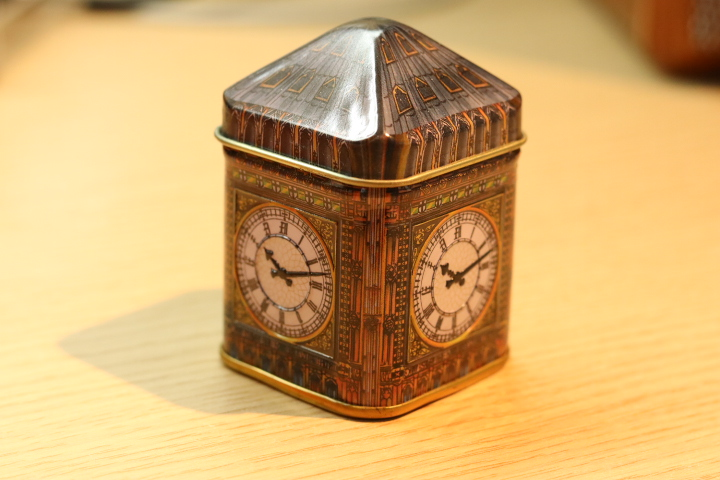Big Ben: (204, 8, 544, 435)
